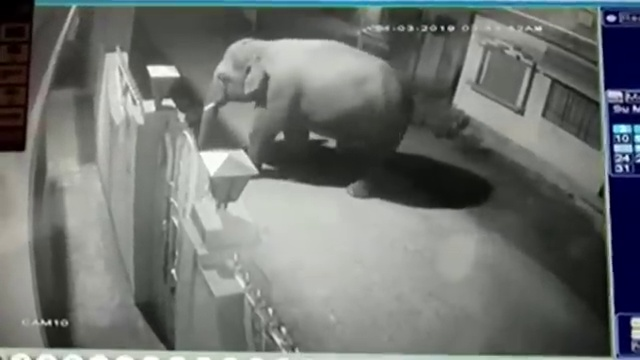Elephant: (196, 37, 411, 199)
